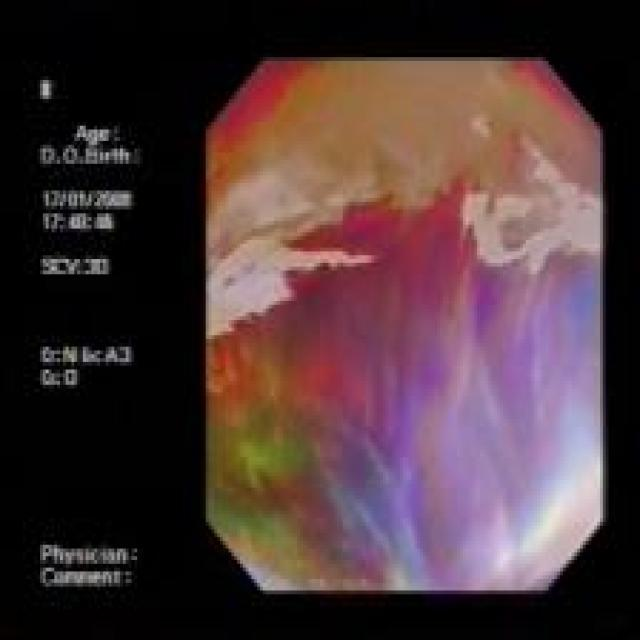color misalignment: (207, 61, 602, 591), (36, 77, 145, 599)
